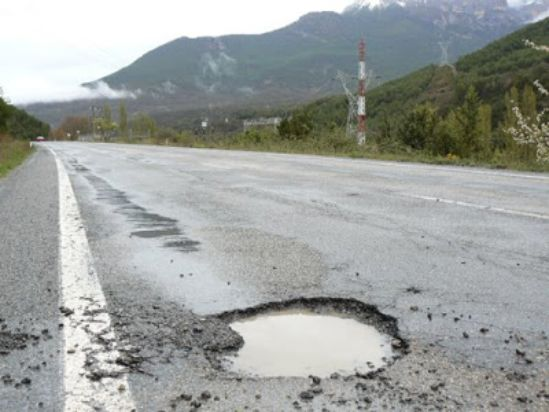pothole: (199, 292, 412, 389)
